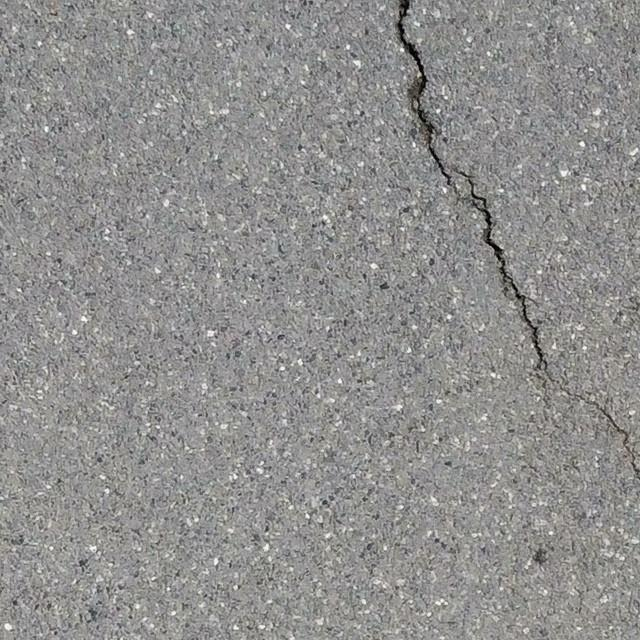LongitudinalCrack: (395, 1, 640, 477)
